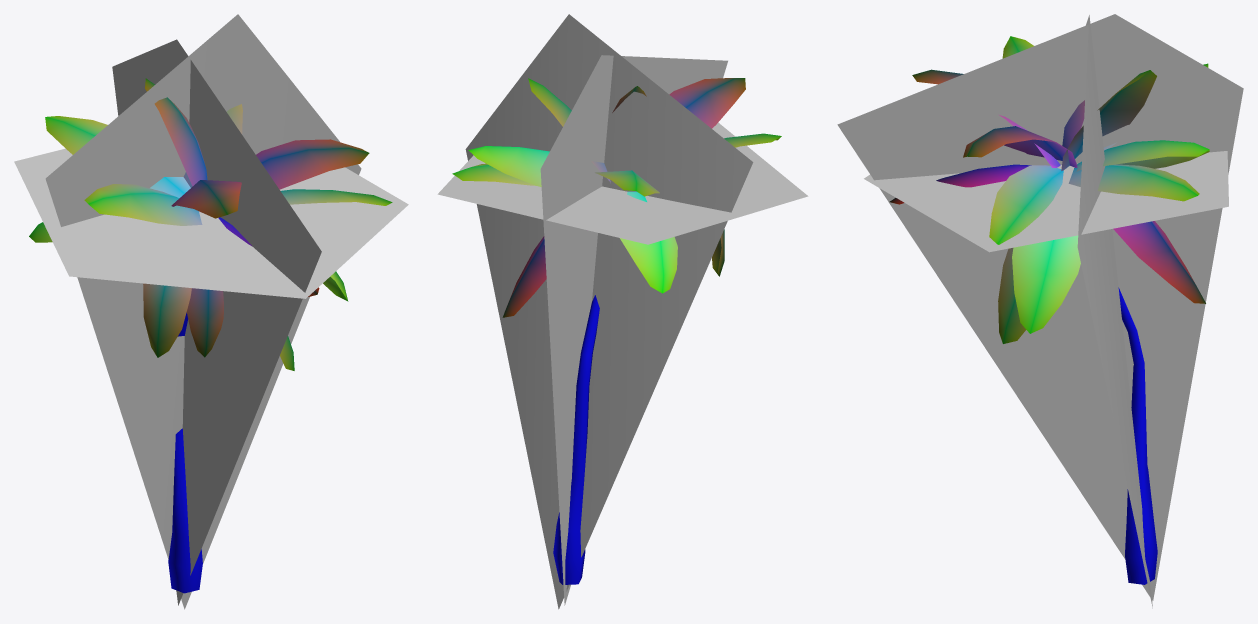
The model's file is PalmB_01.fbx.
The picture shows the model from 3 angles, left to right: view 1: azimuth 30°, elevation 25°; view 2: azimuth 150°, elevation 25°; view 3: azimuth 270°, elevation 25°; orthographic projection. The views are drawn at different scales.
Visible parts, largest first — view 1: PalmB_01_billboard, PalmB_01; view 2: PalmB_01_billboard, PalmB_01; view 3: PalmB_01_billboard, PalmB_01.
Boxes of the visible parts, box(x1,y1,x2,y2) form: PalmB_01_billboard: box(14, 14, 408, 609); PalmB_01: box(29, 78, 392, 593); PalmB_01_billboard: box(437, 14, 808, 609); PalmB_01: box(452, 78, 781, 584); PalmB_01_billboard: box(837, 14, 1243, 608); PalmB_01: box(889, 36, 1209, 584).
Size of the model in its own units: 260 by 457 by 278.
